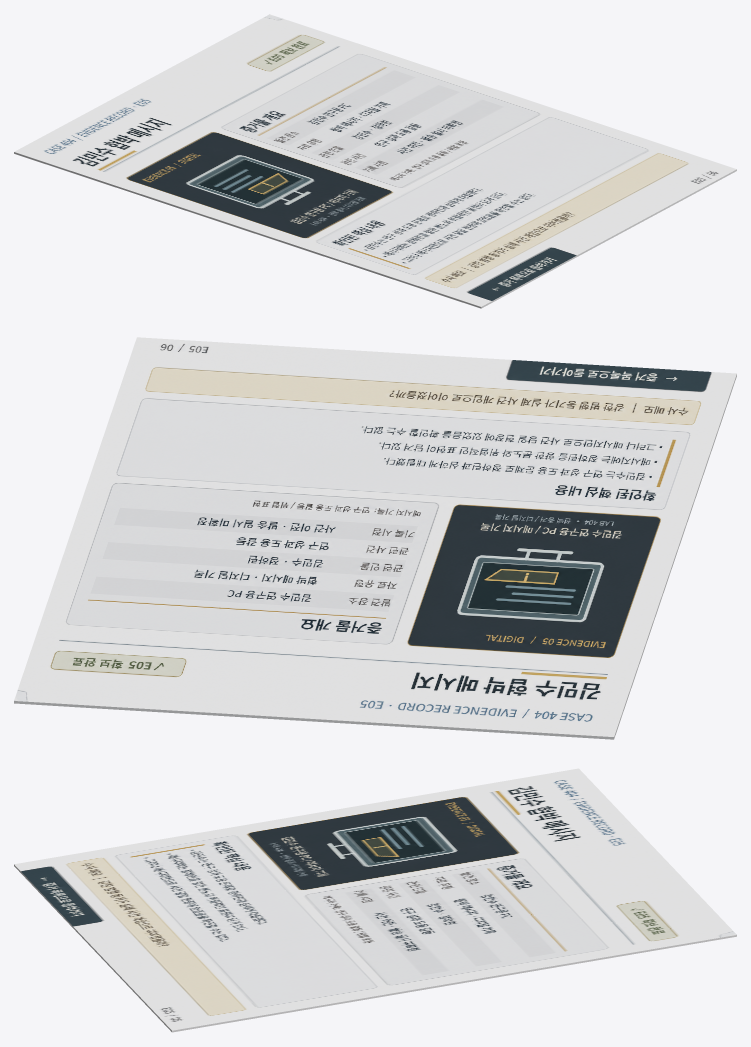
File: Docume.fbx
3 views of the same model, one above another, from view 1: azimuth 30°, elevation 25°; view 2: azimuth 150°, elevation 25°; view 3: azimuth 270°, elevation 25° (orthographic). The views are drawn at different scales.
Parts seen in each view (by area): view 1: paper11; view 2: paper11; view 3: paper11.
Boxes of the visible parts, bbox=[...] form: paper11: bbox=[14, 14, 736, 308]; paper11: bbox=[14, 337, 736, 739]; paper11: bbox=[14, 768, 736, 1032].
Size of the model in its own units: 1.42 by 0.00451 by 1.66.
